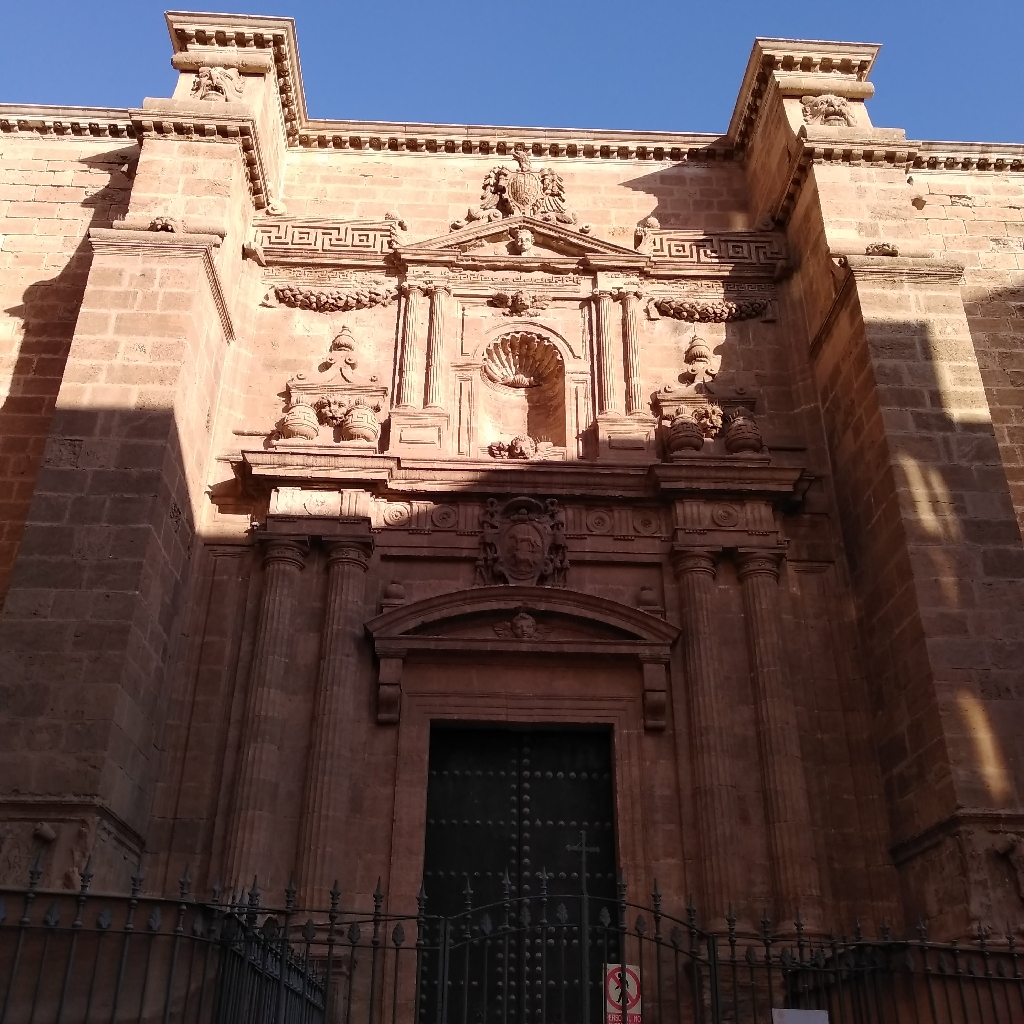fronton: (390, 213, 655, 270)
fronton-curvo: (362, 582, 684, 666)
vano-adintelado: (384, 678, 653, 1024)
